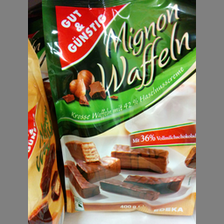chocolate: (42, 1, 196, 216), (28, 36, 67, 223)
